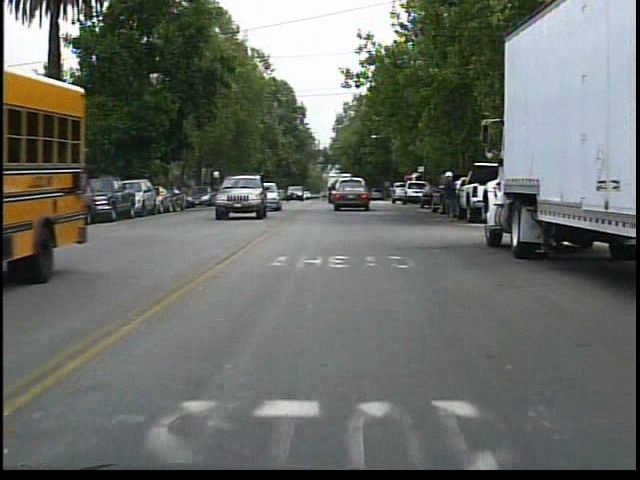person: (438, 169, 465, 224)
